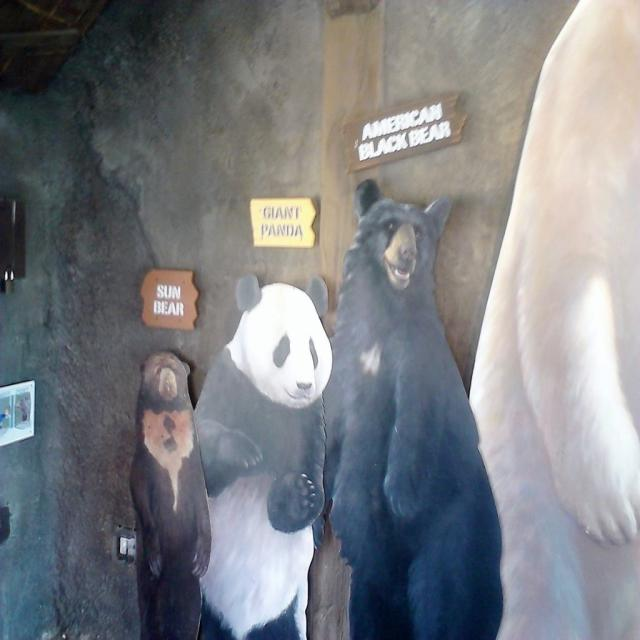panda: (194, 273, 332, 639)
